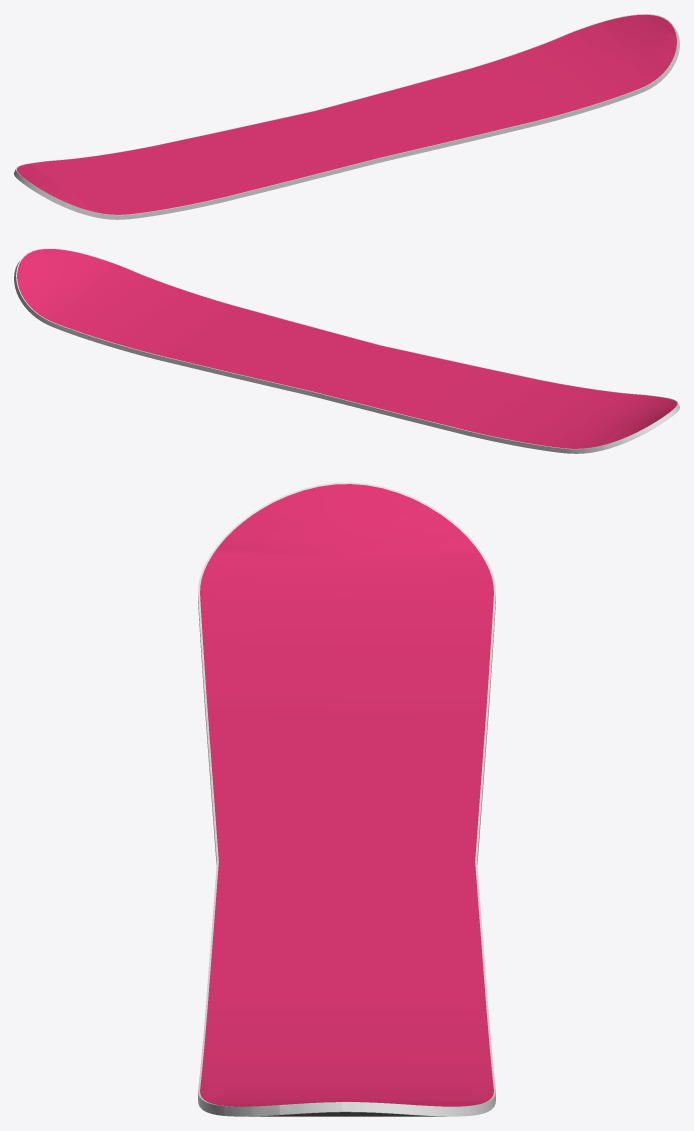
The model's file is board_twin-tip_rocker.gltf.
3 renders of one model, top to bottom at view 1: azimuth 30°, elevation 25°; view 2: azimuth 150°, elevation 25°; view 3: azimuth 270°, elevation 25°, orthographic. The views are drawn at different scales.
Parts seen in each view (by area): view 1: board-top, board-edge; view 2: board-top, board-edge; view 3: board-top, board-edge.
Boxes of the visible parts, x1=… form: board-top: x1=17, y1=15, x2=676, y2=214; board-edge: x1=14, y1=14, x2=679, y2=219; board-top: x1=17, y1=249, x2=676, y2=448; board-edge: x1=14, y1=248, x2=679, y2=453; board-top: x1=200, y1=484, x2=493, y2=1106; board-edge: x1=198, y1=482, x2=495, y2=1116.
Size of the model in its own units: 1.51 by 0.0911 by 0.3009.
